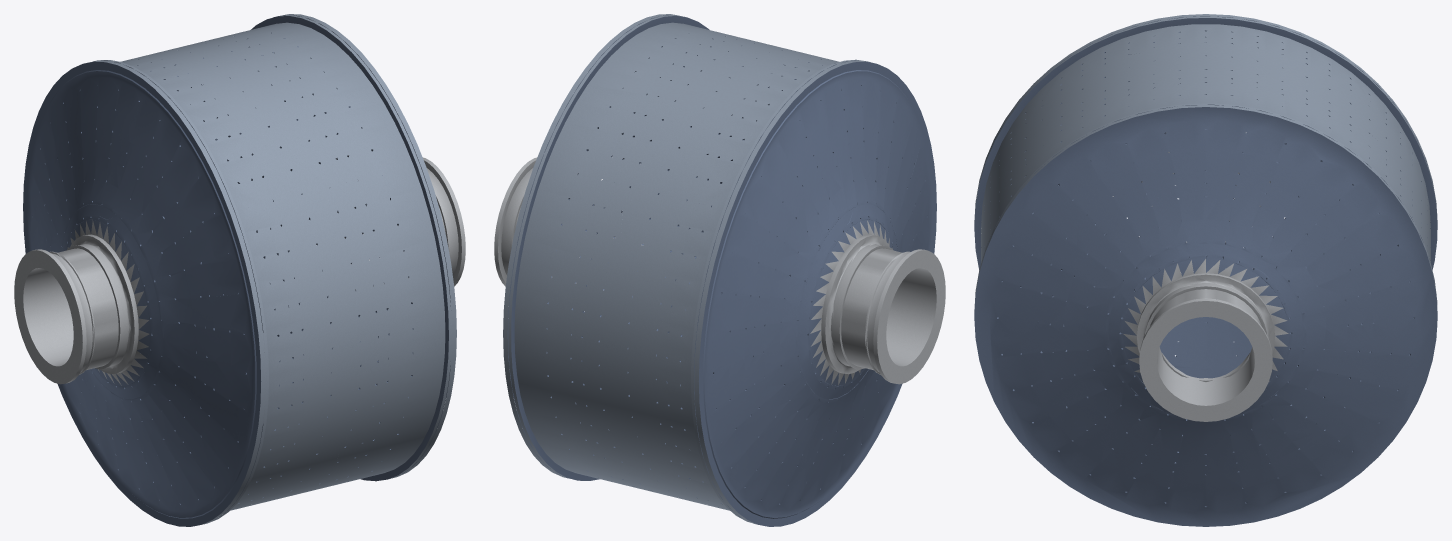
File: mill-sag-full.glb
3 views of the same model, side by side, from view 1: azimuth 30°, elevation 25°; view 2: azimuth 150°, elevation 25°; view 3: azimuth 270°, elevation 25° (orthographic). The views are drawn at different scales.
Parts seen in each view (by area): view 1: millShell:outer, millHead:outer, millTrunnion:outer; view 2: millShell:outer, millHead:outer, millTrunnion:outer; view 3: millHead:outer, millShell:outer, millTrunnion:outer.
Boxes of the visible parts, left/top/right/bottom form: millShell:outer: left=84, top=14, right=456, bottom=524; millHead:outer: left=23, top=15, right=450, bottom=526; millTrunnion:outer: left=14, top=157, right=465, bottom=385; millShell:outer: left=503, top=14, right=872, bottom=524; millHead:outer: left=507, top=15, right=936, bottom=526; millTrunnion:outer: left=494, top=157, right=945, bottom=385; millHead:outer: left=974, top=16, right=1437, bottom=526; millShell:outer: left=974, top=14, right=1437, bottom=312; millTrunnion:outer: left=1113, top=132, right=1288, bottom=421.
Bounding box in the file's own units: 9.47 × 10.19 × 10.19.
Materials: 3 (3 with a texture image).
